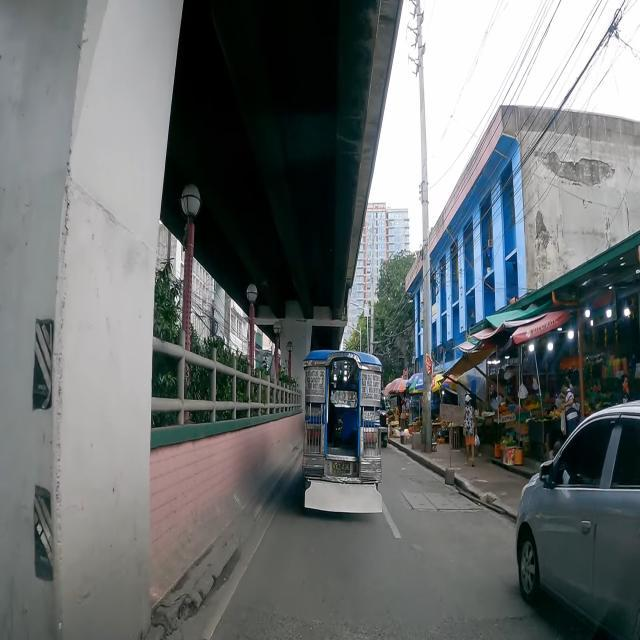car: (512, 402, 640, 640)
jeepney: (304, 348, 384, 514)
